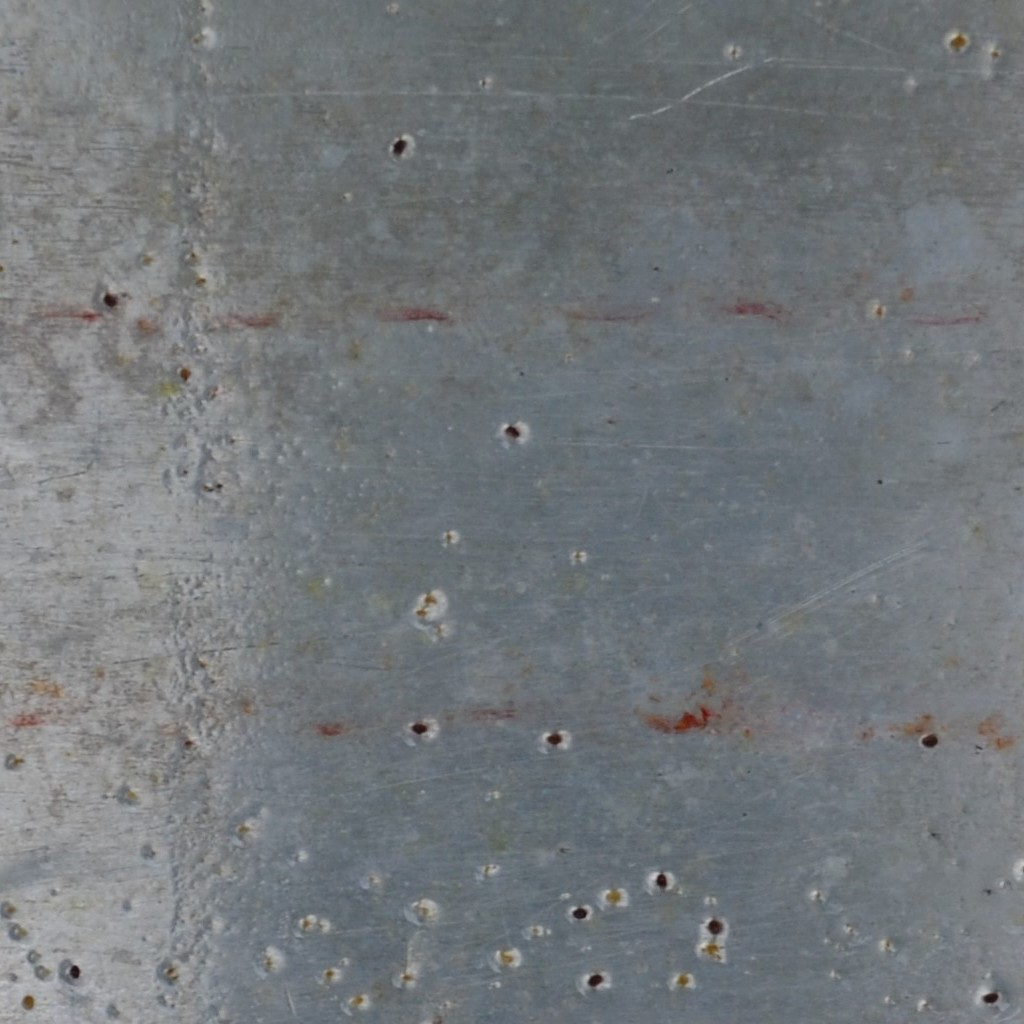varroa: (652, 866, 673, 894), (918, 728, 940, 752), (388, 134, 410, 157), (502, 420, 524, 443), (585, 969, 607, 990), (703, 916, 727, 935), (100, 288, 121, 309), (409, 719, 430, 740), (570, 903, 590, 924), (545, 728, 563, 748), (981, 990, 1000, 1006), (68, 961, 82, 981)
